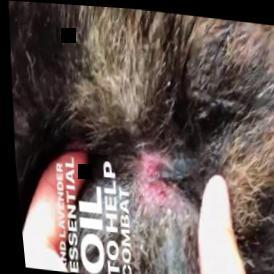skin_lesions: (129, 146, 184, 206)
